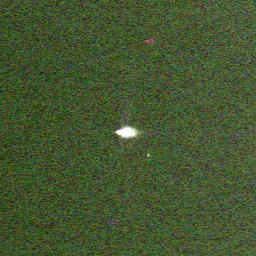Ship: (110, 125, 140, 140)
